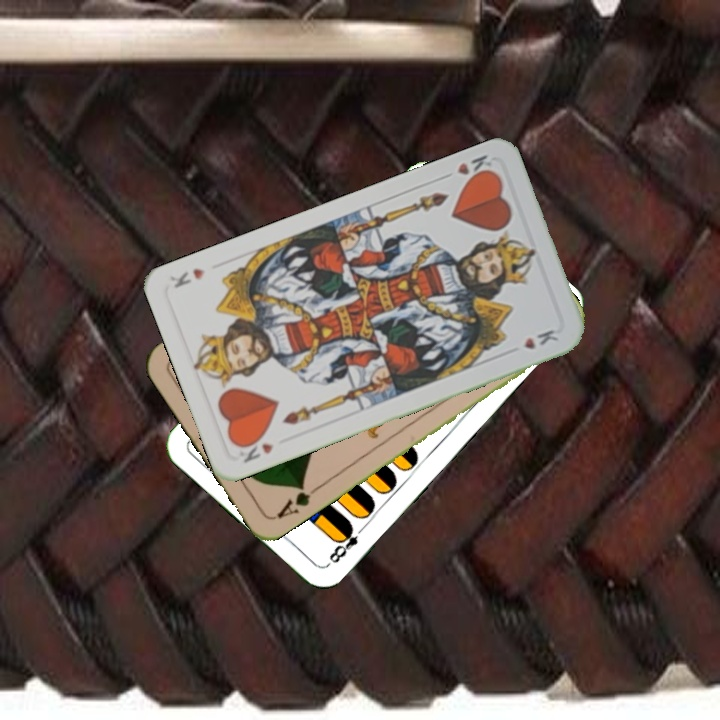E8: (323, 520, 368, 569)
GA: (272, 479, 322, 522)
HK: (437, 151, 496, 185), (234, 432, 277, 466)
